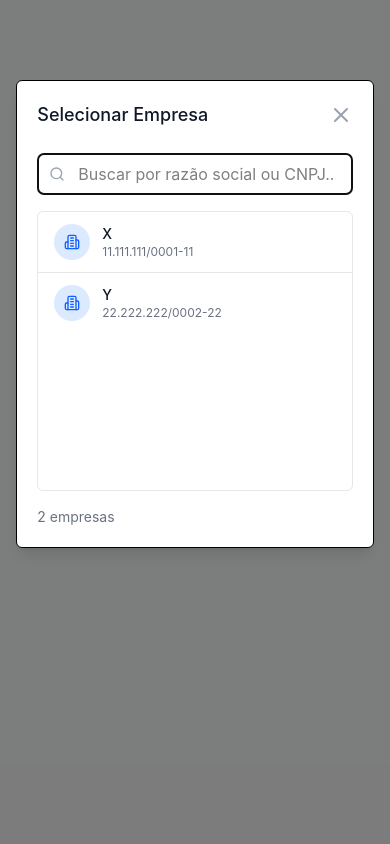
CompanySelectModal › filters by CNPJ digits
The image size is (390, 844).
Type "2222" into the field with placeholder "Buscar por razão social ou CNPJ...".
click(195, 174); type("2222")  # box left=37, top=153, right=353, bottom=195
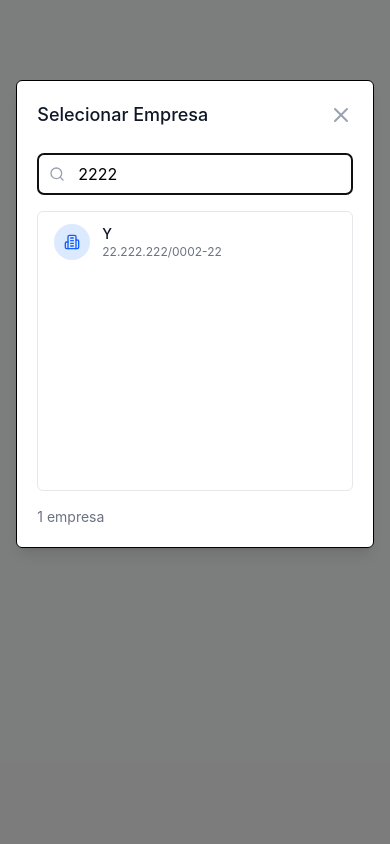
Expected: the text "Y" is shown, left=102, top=225, right=112, bottom=242
Now the button "X" is gone
